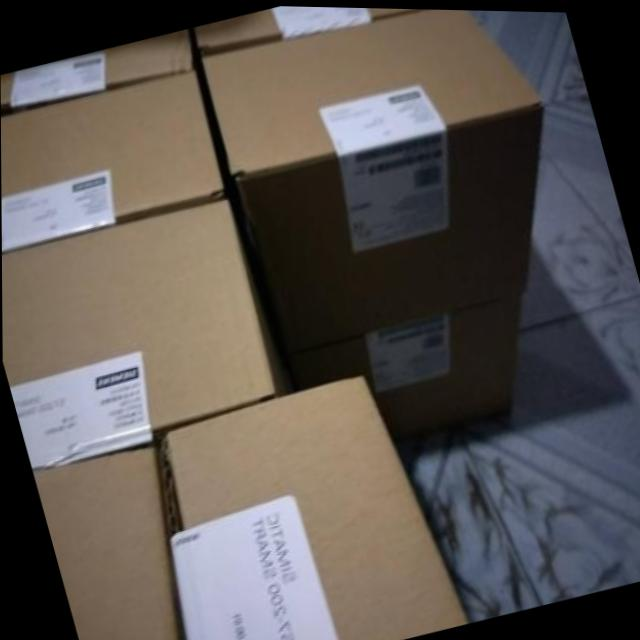box: (200, 7, 544, 356), (158, 373, 468, 640), (1, 196, 285, 467), (1, 68, 225, 251), (276, 292, 521, 449), (31, 446, 178, 640), (0, 29, 192, 109), (193, 5, 419, 49)
